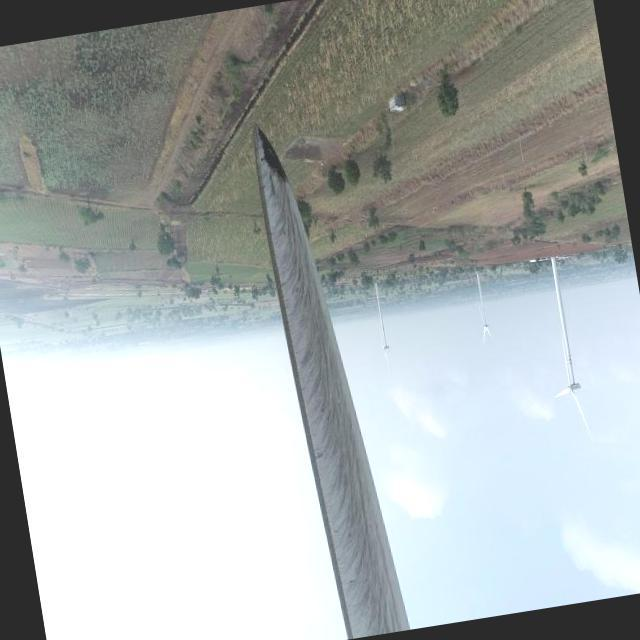Dirt: (257, 130, 417, 640)
Oil LEAKAGE: (259, 128, 292, 186)
Pin Hole: (256, 154, 270, 167)
